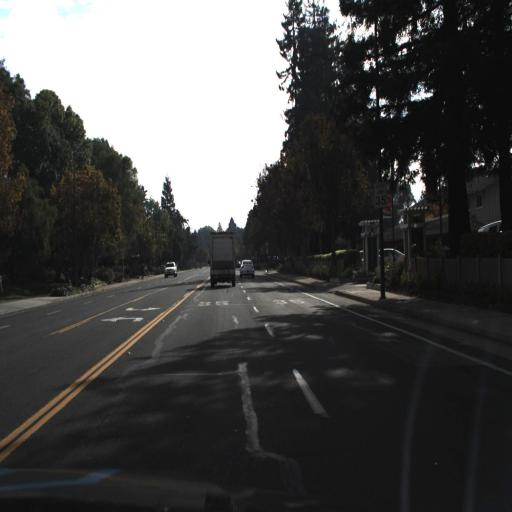car: (374, 245, 406, 273), (236, 255, 255, 279), (161, 256, 179, 275), (163, 260, 179, 280)
truck: (207, 231, 238, 290)
